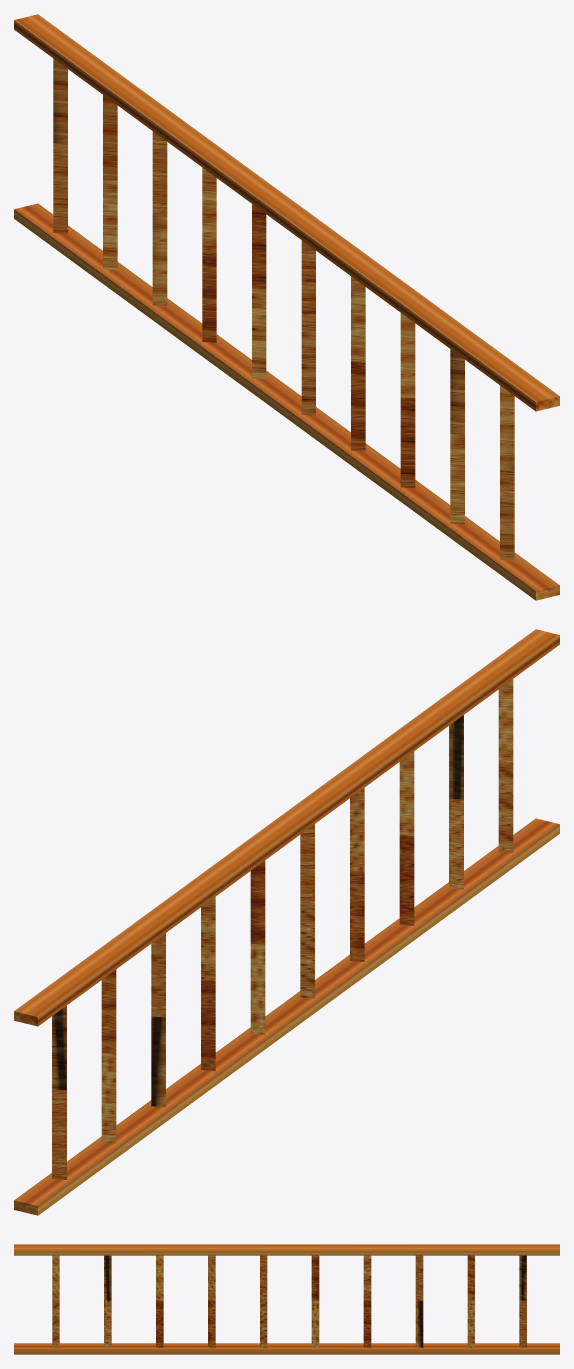
The model's file is ladder.glb.
The picture shows the model from 3 angles, top to bottom: view 1: azimuth 30°, elevation 25°; view 2: azimuth 150°, elevation 25°; view 3: azimuth 270°, elevation 25°; orthographic projection. The views are drawn at different scales.
Parts seen in each view (by area): view 1: side; view 2: side; view 3: side.
Boxes of the visible parts, bbox=[...] form: side: bbox=[14, 14, 559, 600]; side: bbox=[14, 629, 559, 1215]; side: bbox=[14, 1244, 559, 1354].
Size of the model in its own units: 0.08 by 0.63 by 3.
1 material, 1 textured.
